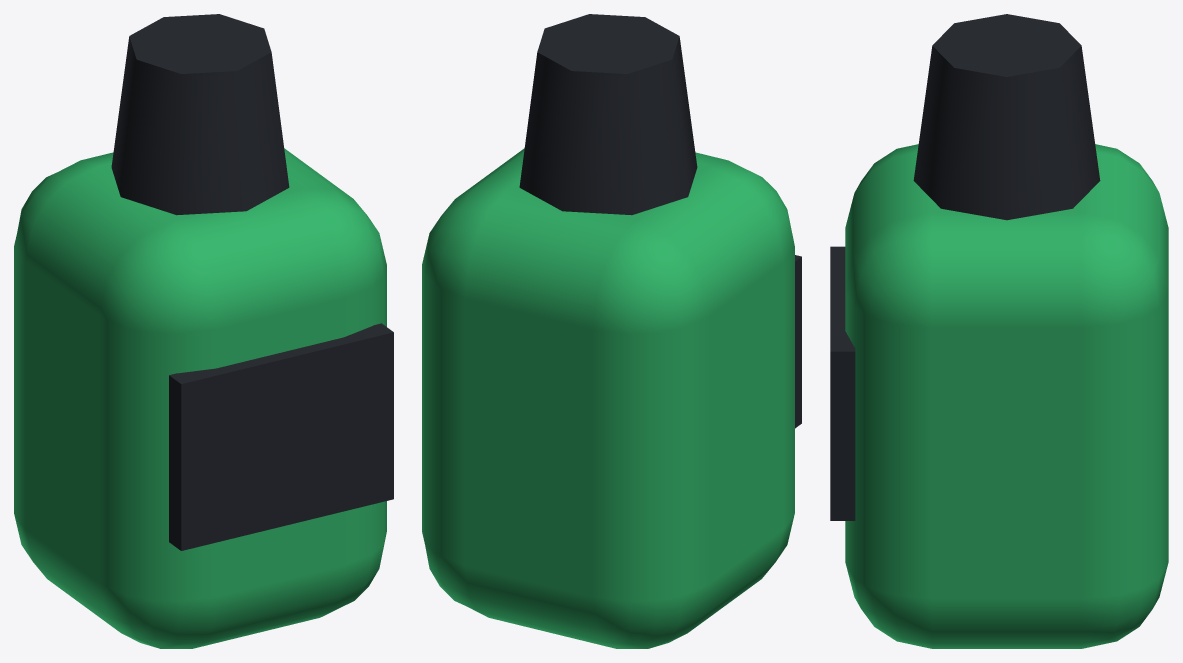
Rendered from item_gel.glb.
3 views of the same model, side by side, from view 1: azimuth 30°, elevation 25°; view 2: azimuth 150°, elevation 25°; view 3: azimuth 270°, elevation 25° (orthographic).
Visible parts, largest first — view 1: Item_gel; view 2: Item_gel; view 3: Item_gel.
Part boxes in pixels (x1,y1,x2,y2): Item_gel: (14,14,393,648); Item_gel: (422,14,801,648); Item_gel: (830,14,1168,648).
Bounding box in the file's own units: 0.26 × 0.5 × 0.272.
